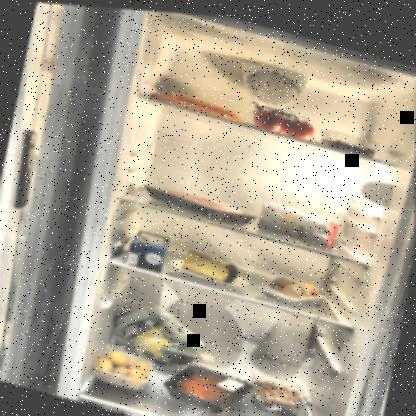beef: (156, 351, 255, 415)
blueberries: (316, 120, 383, 154)
carrot: (147, 82, 250, 121)
cheese: (178, 242, 242, 283)
eggs: (267, 268, 322, 302)
ground_beef: (138, 175, 262, 228)
milk: (122, 223, 172, 272)
potato: (92, 343, 155, 391)
shrimp: (249, 370, 307, 411)
spinach: (103, 295, 212, 378)
tomato: (244, 94, 319, 138)
